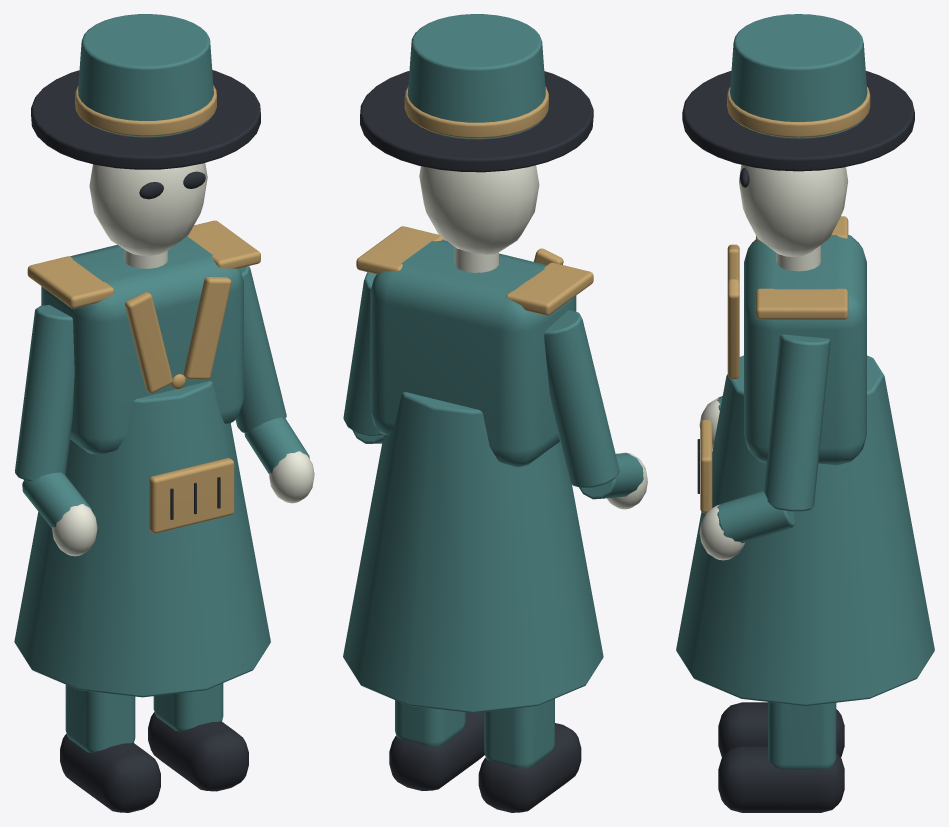
Rendered from passenger.glb.
3 views of the same model, side by side, from view 1: azimuth 30°, elevation 25°; view 2: azimuth 150°, elevation 25°; view 3: azimuth 270°, elevation 25° (orthographic).
Visible parts, largest first — view 1: passenger; view 2: passenger; view 3: passenger.
Part boxes in pixels (x1,y1,x2,y2): passenger: (14,14,314,812); passenger: (343,14,647,812); passenger: (676,14,934,812).
Size of the model in its own units: 0.9034 by 2.4 by 0.757.
